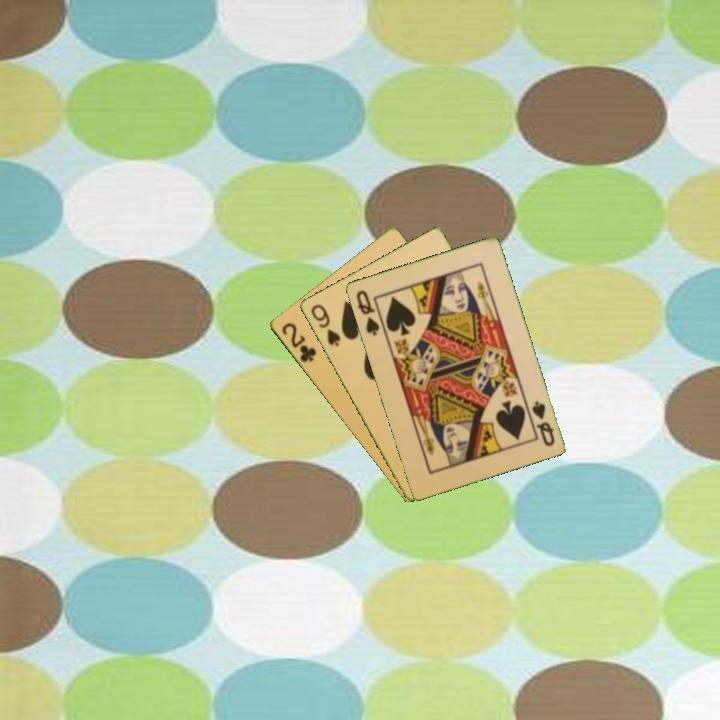2c: (278, 319, 319, 365)
9s: (307, 300, 343, 349)
Qs: (352, 286, 382, 338), (528, 397, 557, 449)
